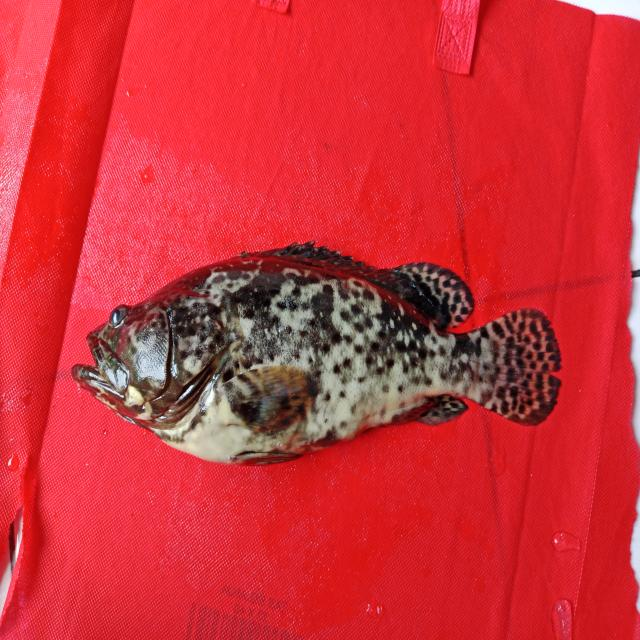ikan: (67, 231, 578, 477)
